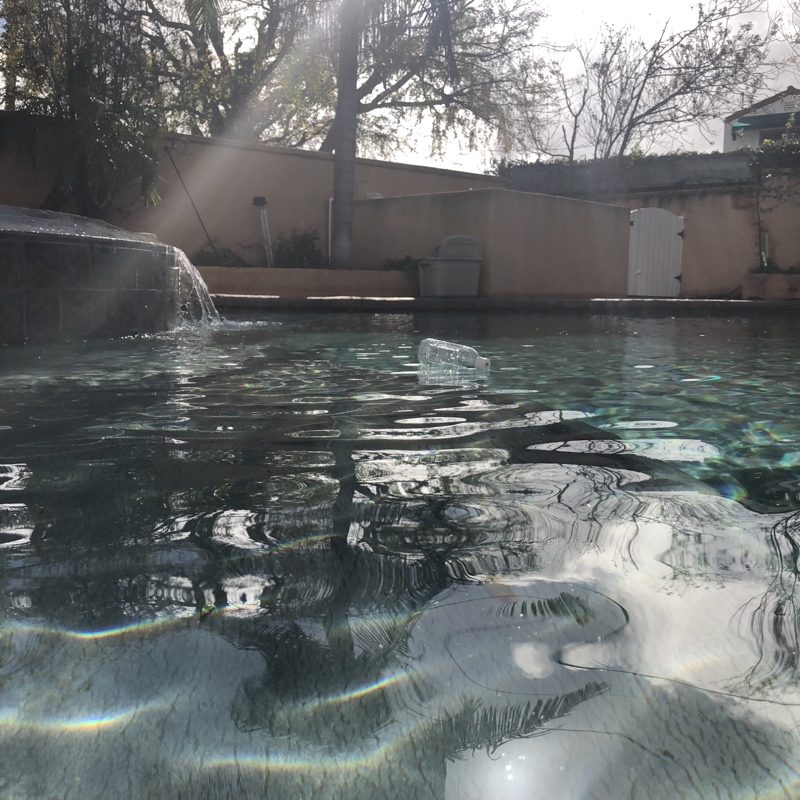Plastic Bottle: (414, 335, 492, 378)
